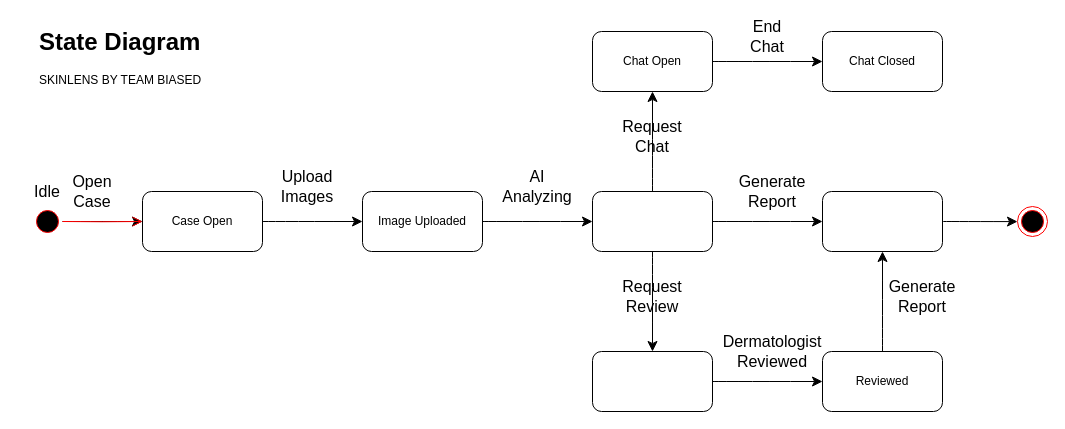
The diagram is 1065 pixels wide and 429 high, and some of its shapes have lost their labels. Each missing label, with the box of its shape:
AI Diagnosis Completed: (592, 190, 712, 252)
Case Closed: (822, 190, 942, 252)
Under Review: (592, 350, 712, 412)
